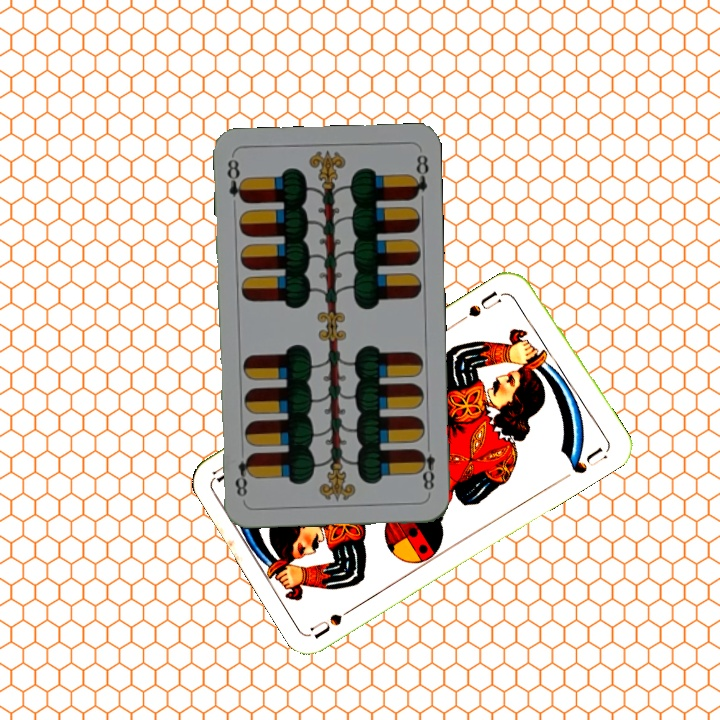E8: (414, 438, 437, 497), (223, 153, 248, 206)
SU: (307, 599, 363, 641), (464, 286, 504, 320)
